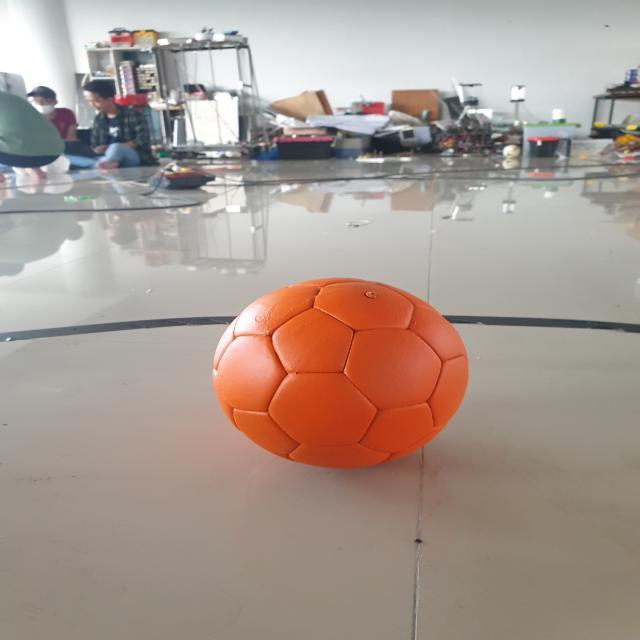bola: (200, 270, 480, 478)
